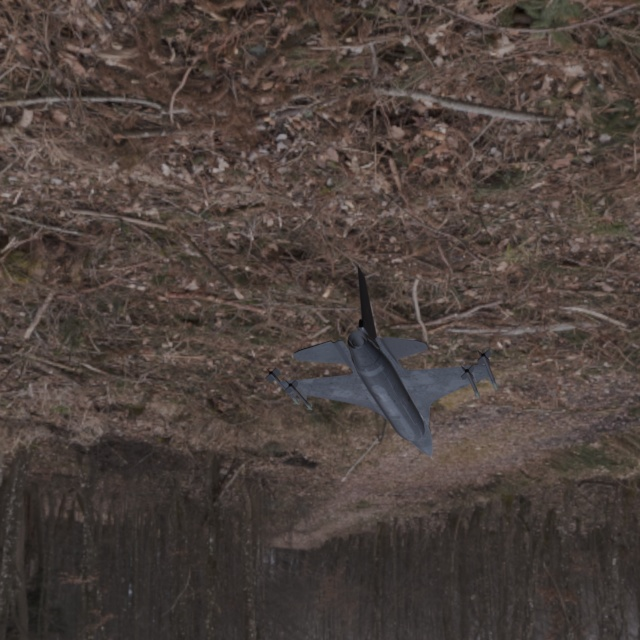model: (245, 252, 520, 477)
